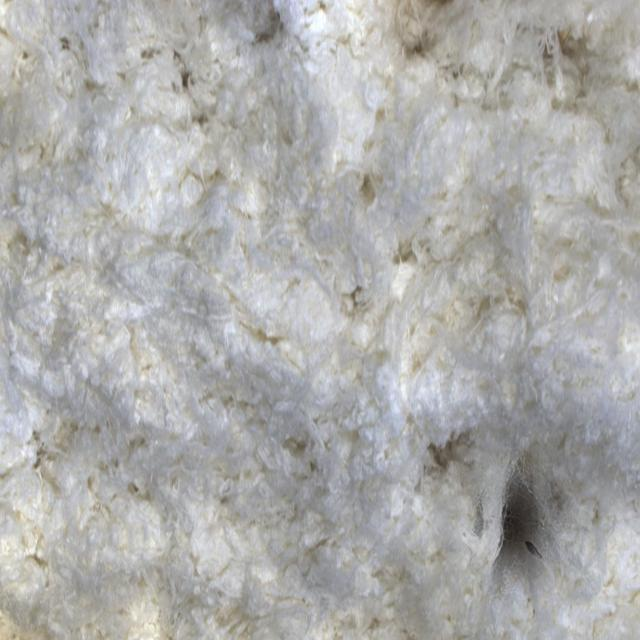dust: (445, 420, 607, 622)
